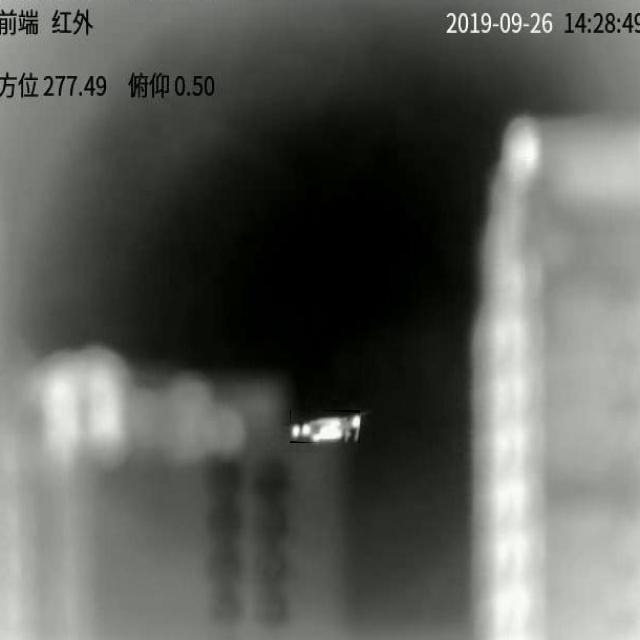drone: (290, 413, 360, 443)
